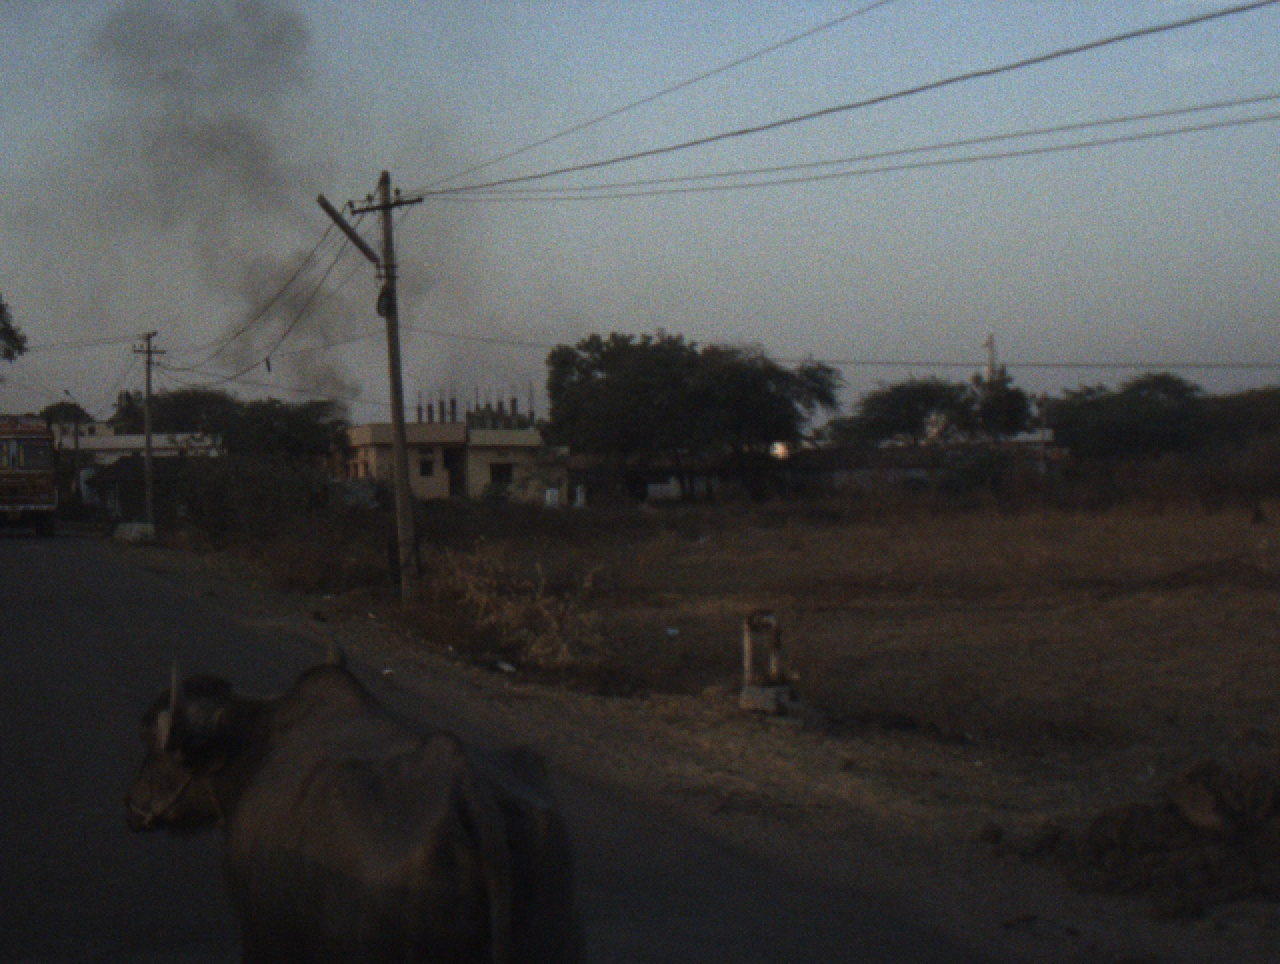animal: (119, 638, 587, 960)
truck: (0, 406, 66, 538)
